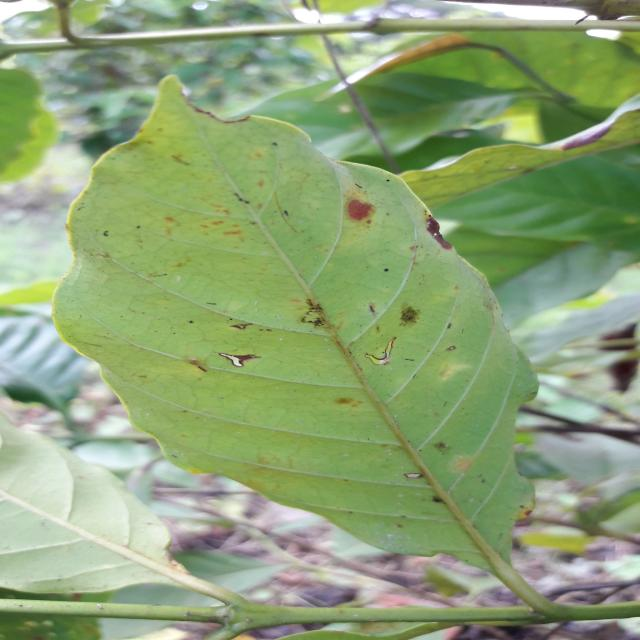Plaga-AranaRoja: (51, 76, 583, 622)
